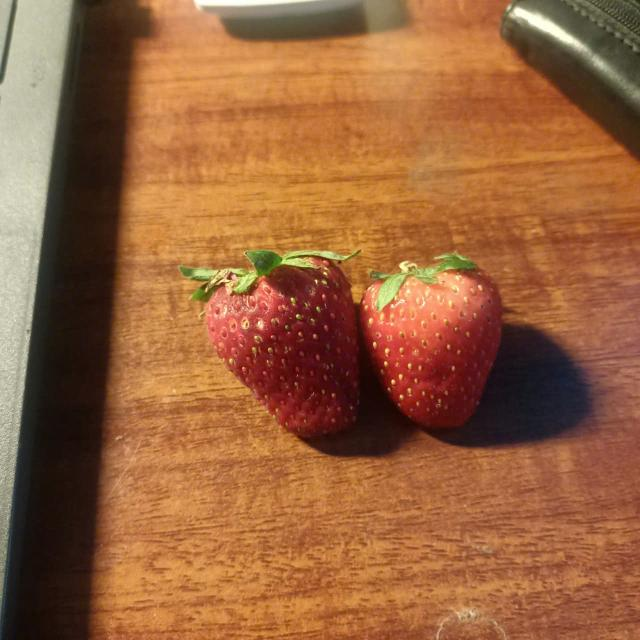DauTay: (152, 235, 382, 492), (357, 247, 507, 473)
